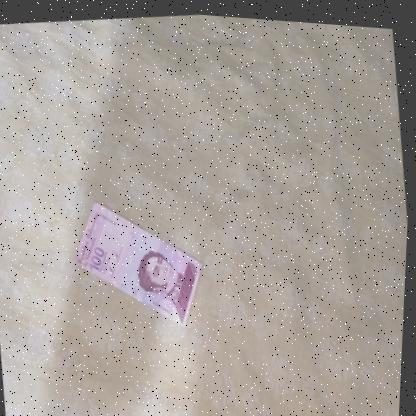one_hundred-front-vef: (64, 182, 215, 339)
